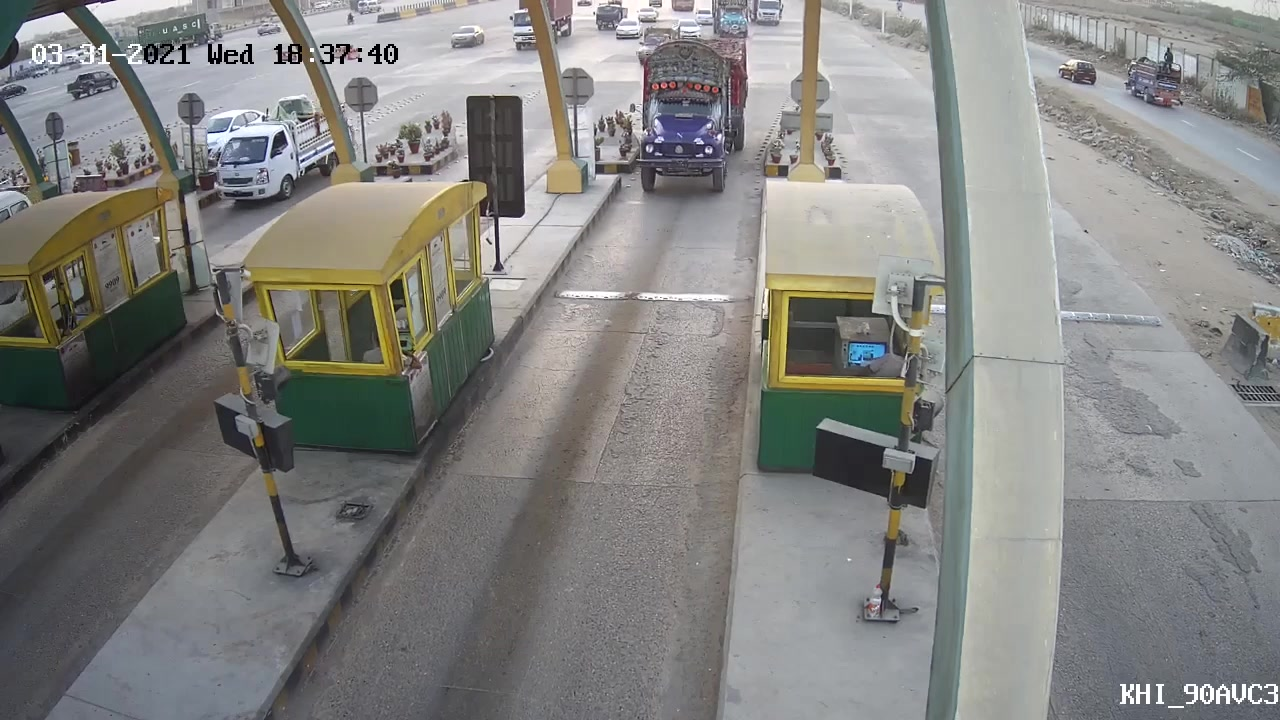F5: (635, 36, 740, 200)
